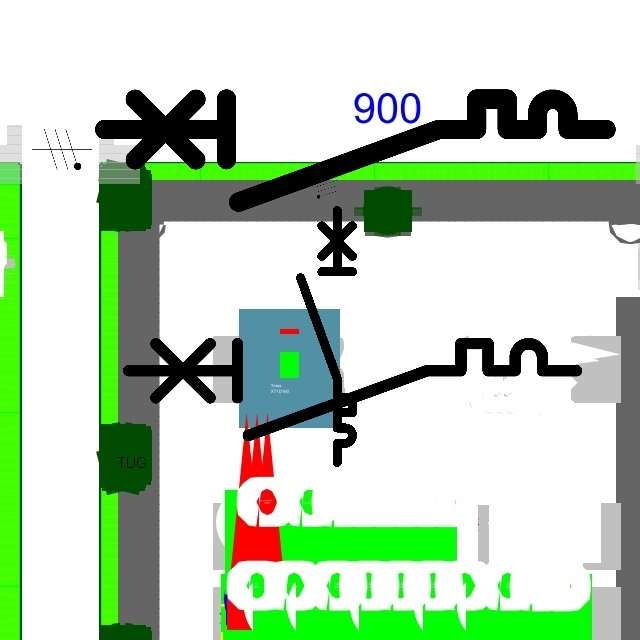interruptor_termomagnetico: (91, 86, 619, 215), (117, 332, 588, 447), (294, 204, 359, 469)
